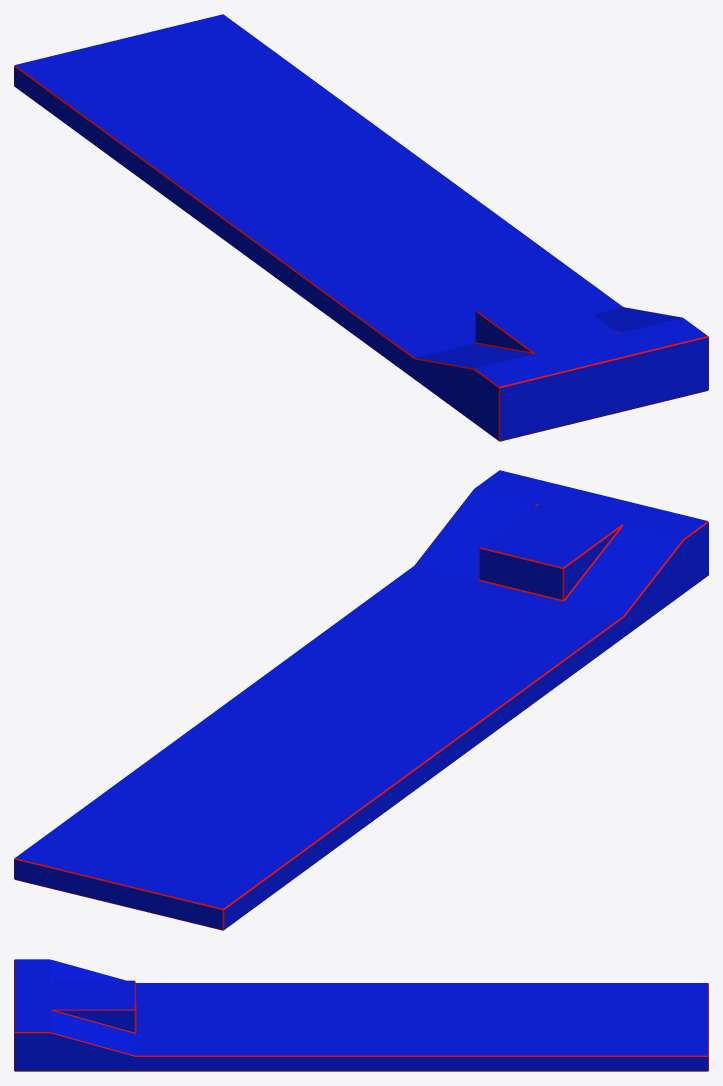
File: L9_Spawn_Platform.fbx
The picture shows the model from 3 angles, top to bottom: view 1: azimuth 30°, elevation 25°; view 2: azimuth 150°, elevation 25°; view 3: azimuth 270°, elevation 25°; orthographic projection. The views are drawn at different scales.
Visible parts, largest first — view 1: L9_Spawn_Platform; view 2: L9_Spawn_Platform; view 3: L9_Spawn_Platform.
Part boxes in pixels (<box>): L9_Spawn_Platform: <box>14,14,708,441</box>; L9_Spawn_Platform: <box>14,470,708,930</box>; L9_Spawn_Platform: <box>14,959,708,1071</box>.
Size of the model in its own units: 1000 by 250 by 4000.
